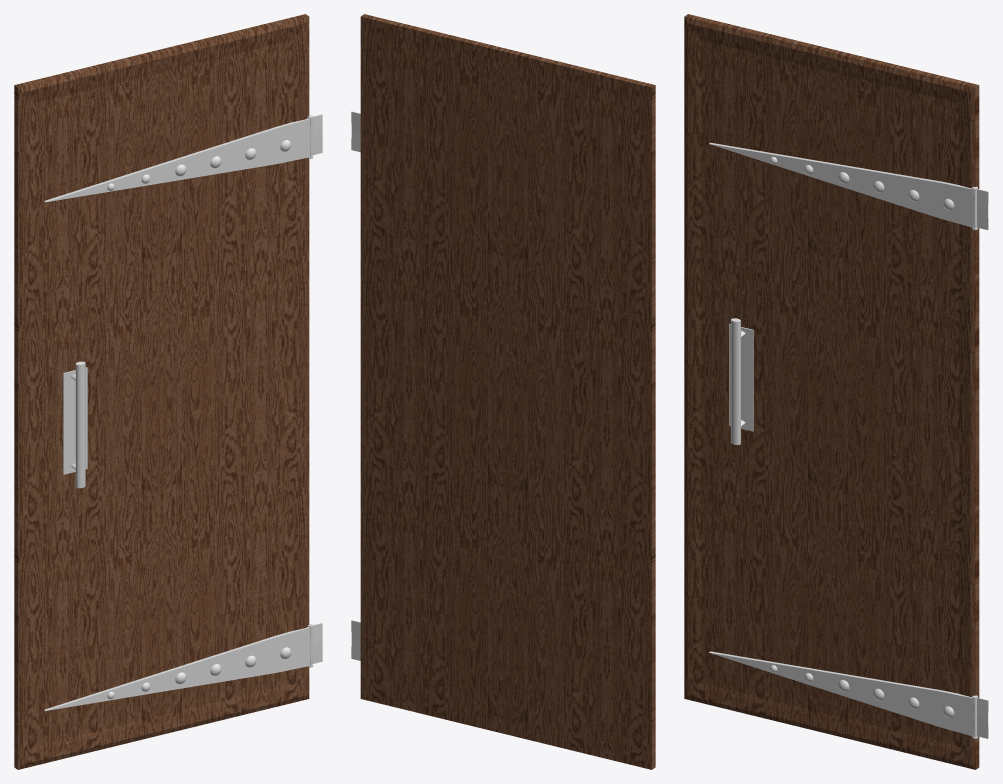
Rendered from porta_esuqerda_armario_final.fbx.
The picture shows the model from 3 angles, left to right: view 1: azimuth 30°, elevation 25°; view 2: azimuth 150°, elevation 25°; view 3: azimuth 330°, elevation 25°; orthographic projection.
Visible parts, largest first — view 1: porta_direita_armario; view 2: porta_direita_armario; view 3: porta_direita_armario.
Boxes of the visible parts, left/top/right/bottom form: porta_direita_armario: left=14, top=14, right=322, bottom=769; porta_direita_armario: left=351, top=14, right=655, bottom=769; porta_direita_armario: left=684, top=14, right=988, bottom=769.
Size of the model in its own units: 88.19 by 189 by 5.56.
2 materials, 1 textured.
